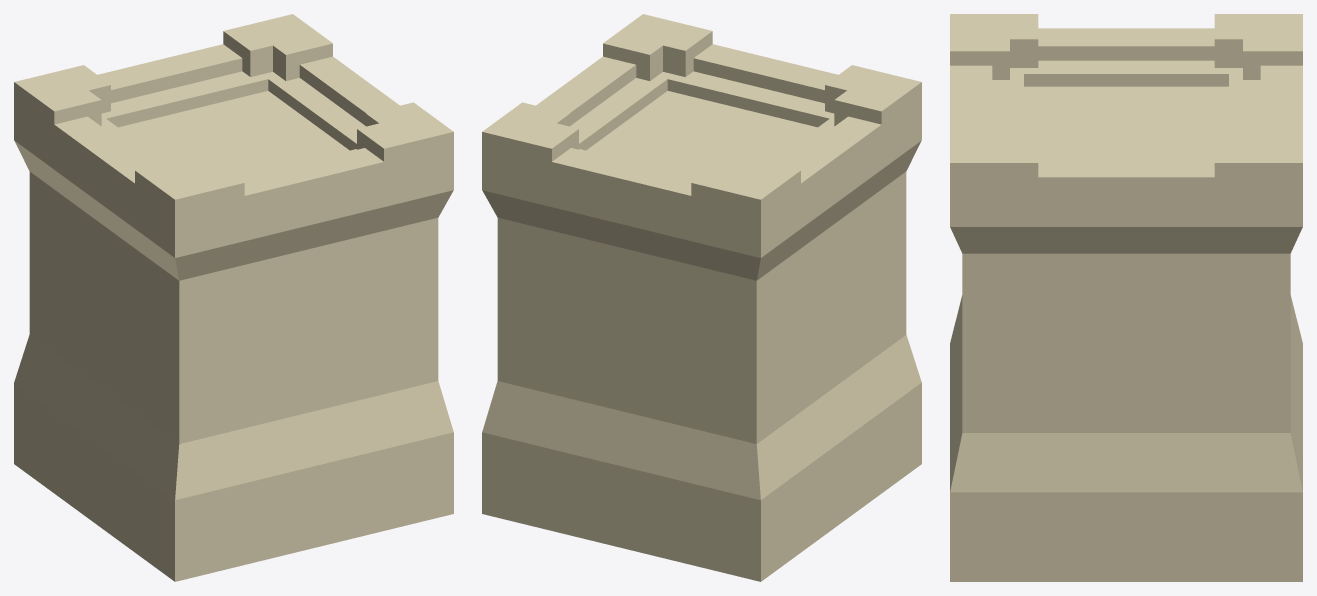
Rendered from towersquare.glb.
3 views of the same model, side by side, from view 1: azimuth 30°, elevation 25°; view 2: azimuth 150°, elevation 25°; view 3: azimuth 270°, elevation 25° (orthographic). The views are drawn at different scales.
Parts seen in each view (by area): view 1: towerSquare; view 2: towerSquare; view 3: towerSquare.
Part boxes in pixels (bbox=[...]): towerSquare: bbox=[14, 14, 453, 581]; towerSquare: bbox=[482, 14, 921, 581]; towerSquare: bbox=[950, 14, 1302, 581].
Bounding box in the file's own units: 10 × 13.1 × 10.
